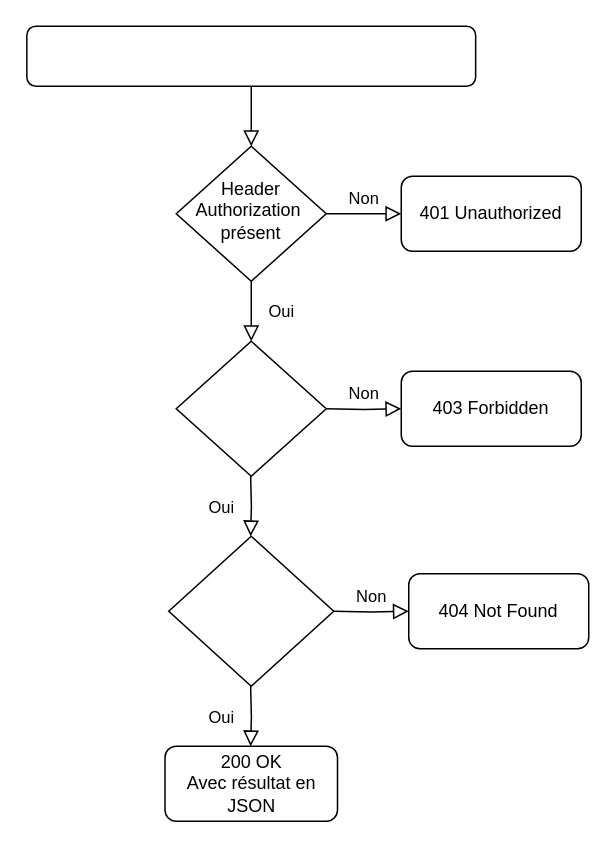
The diagram is 615 pixels wide and 848 high, and some of its shapes have lost their labels. The centre of each missing label's shape, as x and y in pixels:
"Exception d'horaire à récupérer existante" belongs at [250,610].
"GET api/v1/scheduleOverrides/{idScheduleOverride}" belongs at [250,55].
"Utilisateur administrateur" belongs at [250,408].
